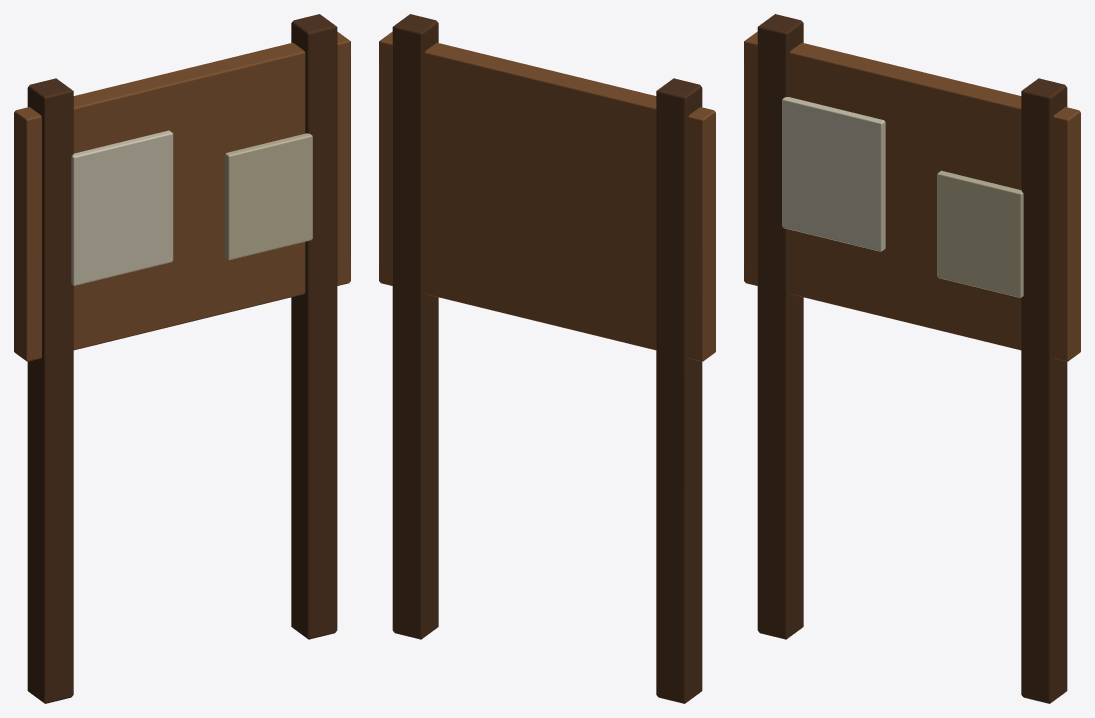
Rendered from noticeboard.030d8bff.glb.
The picture shows the model from 3 angles, left to right: view 1: azimuth 30°, elevation 25°; view 2: azimuth 150°, elevation 25°; view 3: azimuth 330°, elevation 25°; orthographic projection.
Visible parts, largest first — view 1: body; view 2: body; view 3: body.
Boxes of the visible parts, x1,y1,x2,y2 form: body: (14, 14, 350, 703); body: (379, 14, 715, 703); body: (744, 14, 1080, 703).
Bounding box in the file's own units: 0.84 × 1.5 × 0.09.
